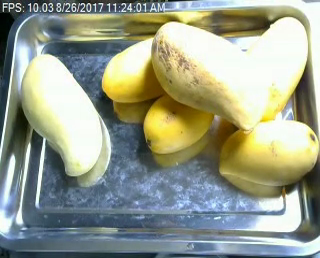Mango: (151, 22, 261, 129), (19, 52, 102, 176), (220, 119, 320, 186), (247, 15, 308, 122), (145, 93, 215, 155), (101, 37, 168, 98)
